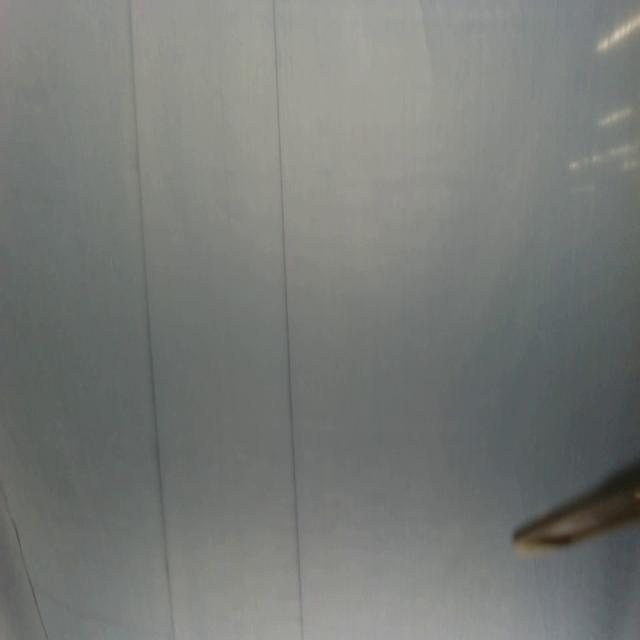crease: (128, 0, 176, 640), (272, 1, 305, 640), (0, 478, 51, 640)
